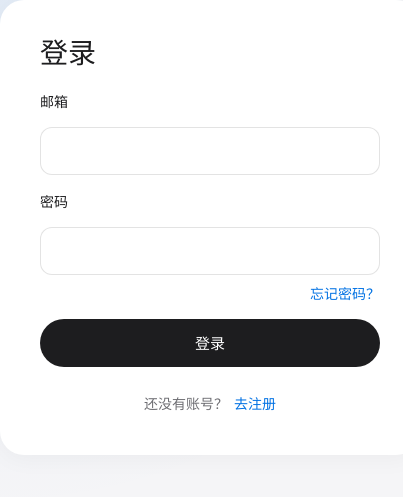
Test: AuthForm › returns to the login form when a replay cannot recover a cookie session
Type "hello@example.com" into the field labelled "邮箱". click: (210, 151)
box: [40,127,380,175]
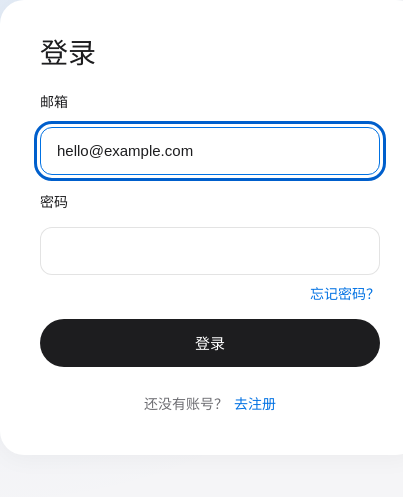
Type "password123" into the password field labelled "密码". click: (210, 251)
box: [40,227,380,275]
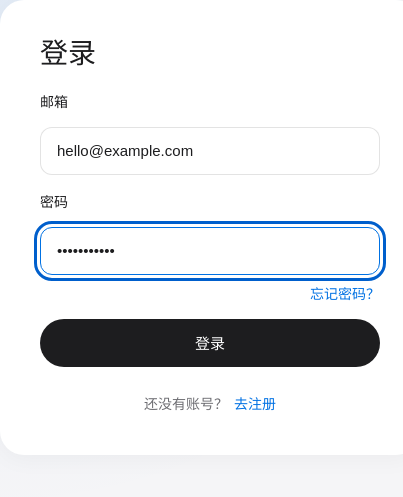
Click the button "登录". click: (210, 343)
box: [40,319,380,367]
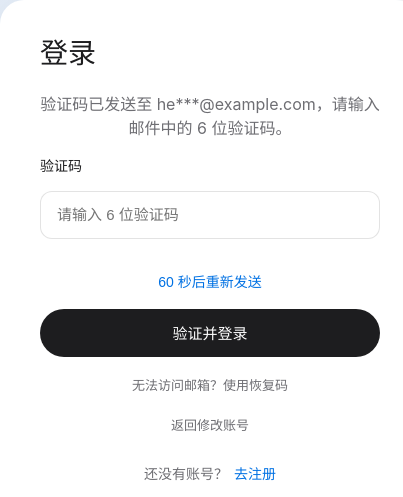
Type "123456" into the field labelled "验证码". click: (210, 215)
box: [40,191,380,239]
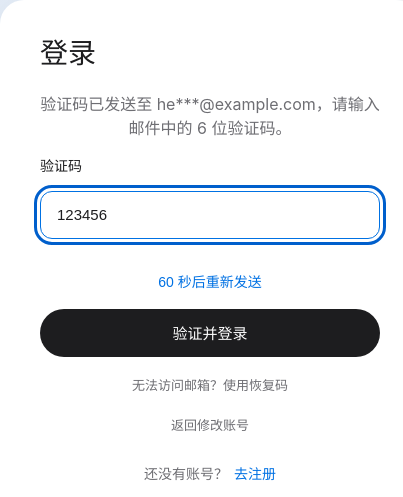
Click the button "验证并登录". click: (210, 333)
box: [40,309,380,357]
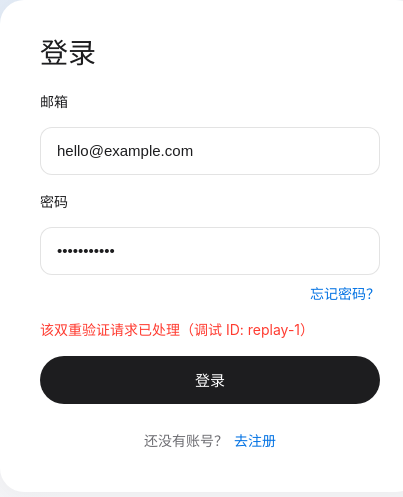
Expected: the heading "登录" is shown, [40,40,96,67]
Expected: the message reads "该双重验证请求已处理（调试 ID: replay-1）", [40,321,314,338]
